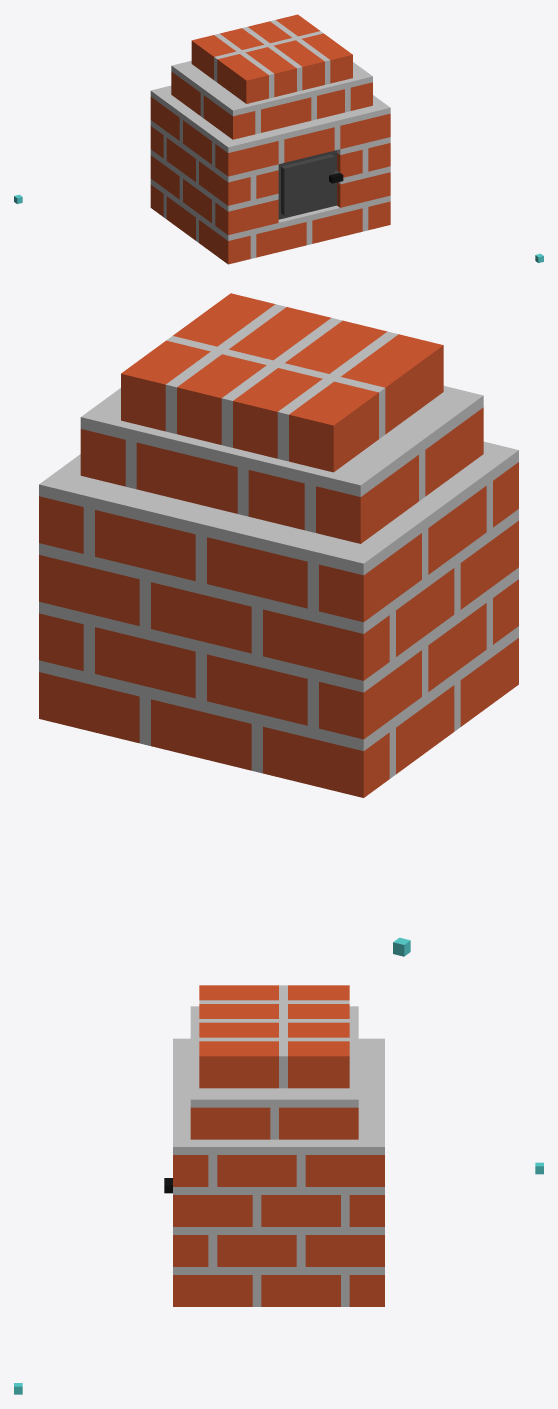
The model's file is clay_oven.glb.
The picture shows the model from 3 angles, top to bottom: view 1: azimuth 30°, elevation 25°; view 2: azimuth 150°, elevation 25°; view 3: azimuth 270°, elevation 25°; orthographic projection. The views are drawn at different scales.
Parts seen in each view (by area): view 1: clay_oven; view 2: clay_oven; view 3: clay_oven.
Part boxes in pixels (left/top/right/bottom): clay_oven: left=14, top=14, right=543, bottom=264; clay_oven: left=39, top=293, right=518, bottom=956; clay_oven: left=14, top=985, right=543, bottom=1394.
Size of the model in its own units: 6 by 3.2 by 6.
